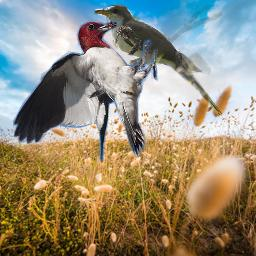Cuckoo: (94, 5, 222, 115)
Woodpecker: (13, 17, 158, 162)
